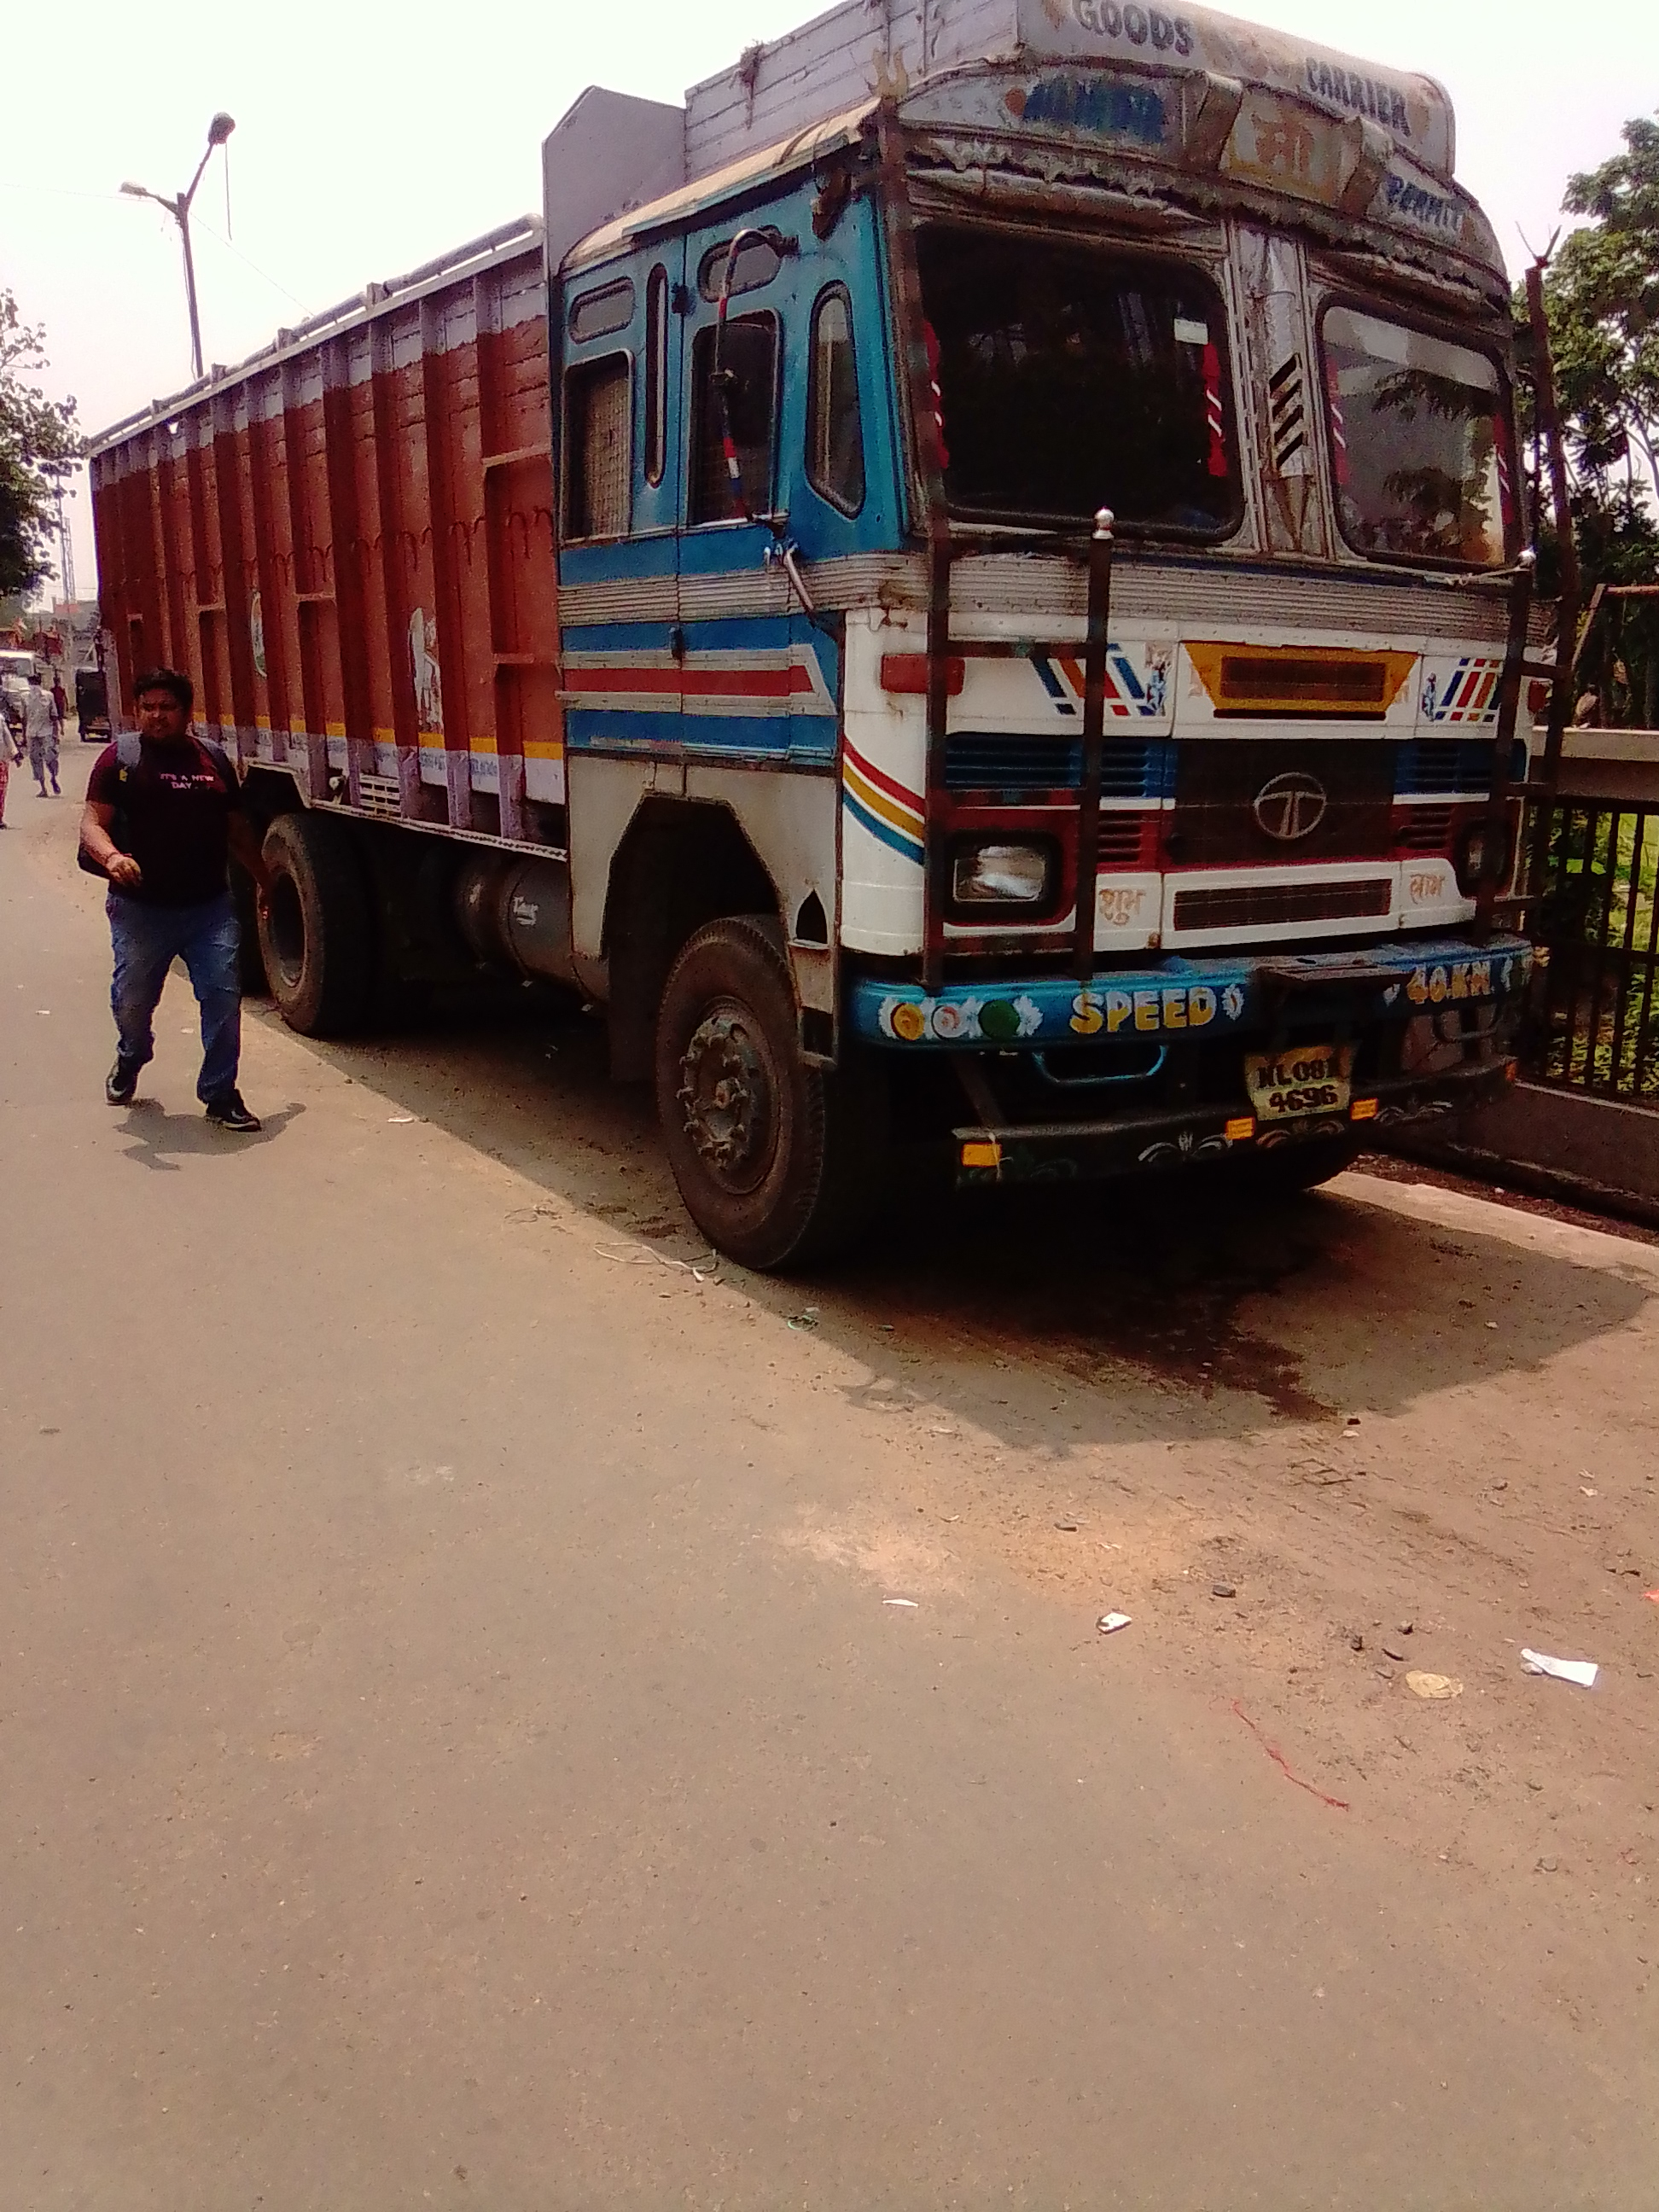truck: (73, 0, 1589, 1278)
